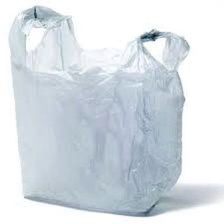plastic_bag: (6, 1, 193, 221)
